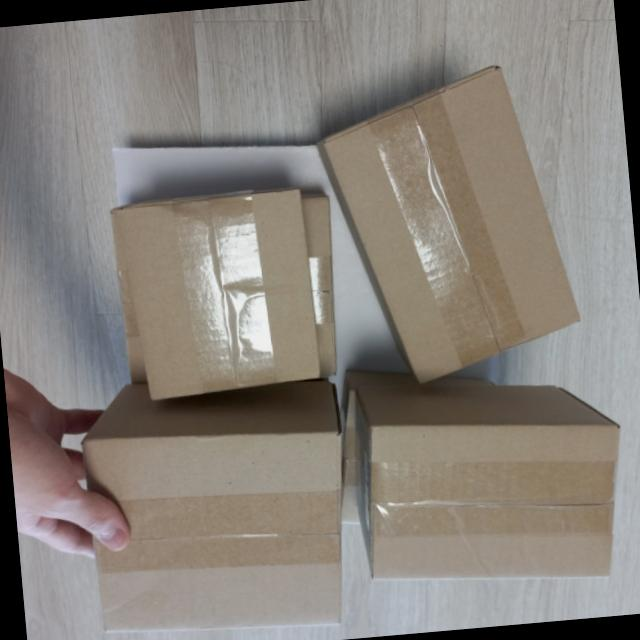box: (306, 52, 591, 400), (70, 360, 365, 640), (342, 362, 640, 602), (109, 176, 328, 409)
